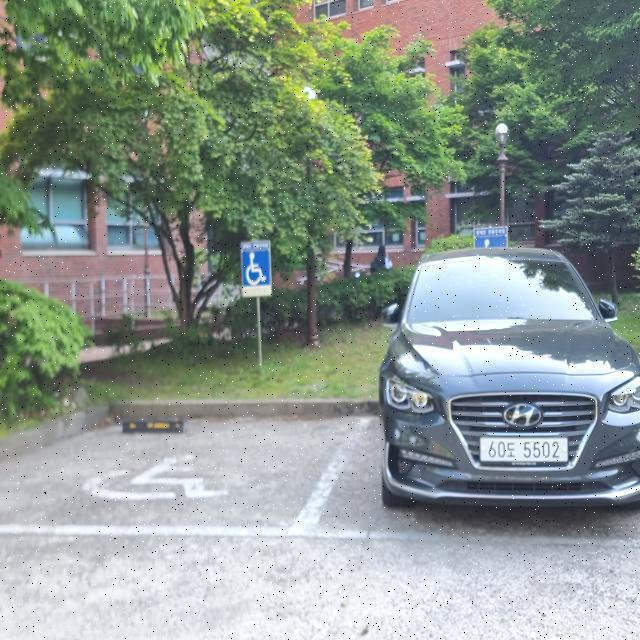Car: (377, 243, 640, 546)
Vacant: (11, 412, 364, 539)
